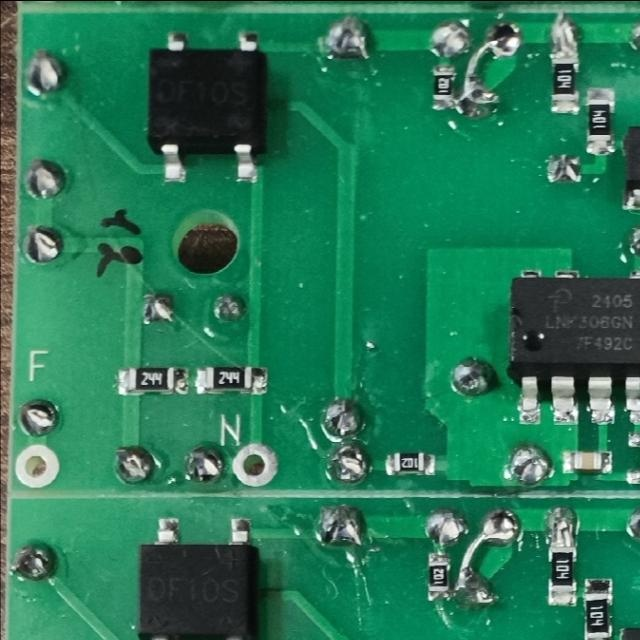chip-capacitor: (561, 449, 614, 475)
chip-resistor: (194, 365, 267, 397), (584, 86, 616, 155), (115, 365, 188, 395), (582, 575, 614, 640), (547, 543, 578, 608), (549, 52, 580, 116), (383, 451, 437, 477), (425, 548, 451, 600), (431, 64, 455, 109)
ic: (505, 266, 640, 426), (145, 32, 267, 186), (135, 516, 258, 640)
